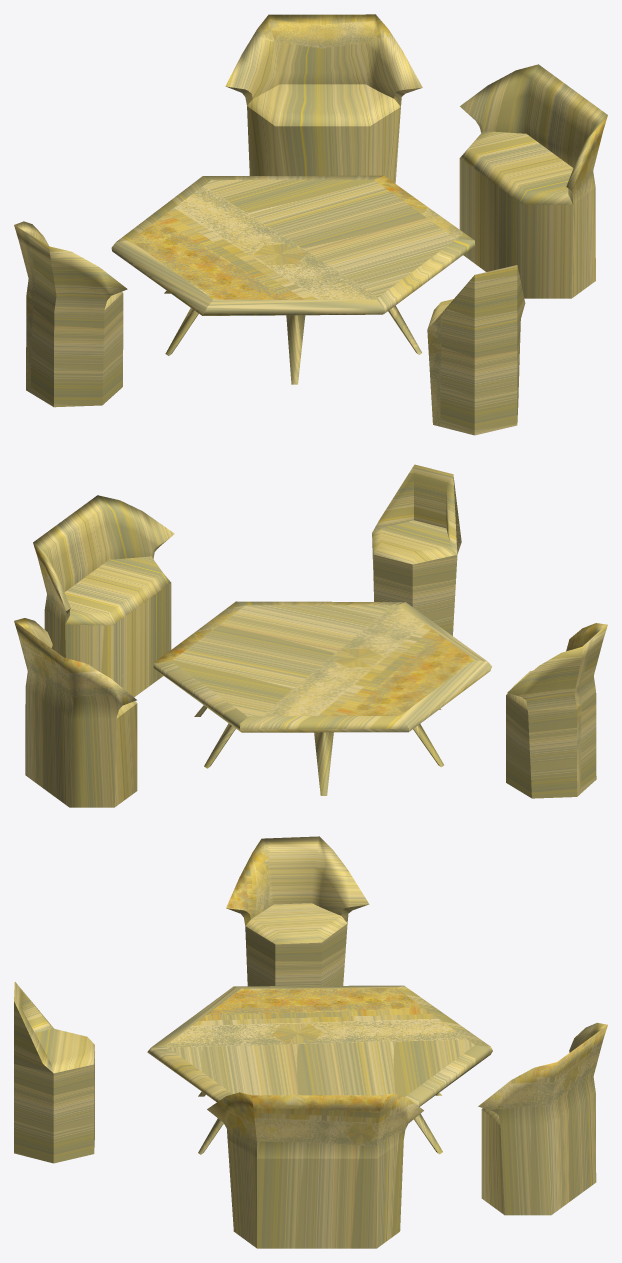
File: Lounge.fbx
The picture shows the model from 3 angles, top to bottom: view 1: azimuth 30°, elevation 25°; view 2: azimuth 150°, elevation 25°; view 3: azimuth 270°, elevation 25°; orthographic projection. The views are drawn at different scales.
Visible parts, largest first — view 1: Coffee_table, Sofa3Base, Sofa2wBase, SoftChair, HardChair; view 2: Coffee_table, Sofa3Base, Sofa2wBase, SoftChair, HardChair; view 3: Coffee_table, Sofa3Base, Sofa2wBase, SoftChair, HardChair.
Boxes of the visible parts, <box> form: Coffee_table: <box>111,175,475,384</box>; Sofa3Base: <box>459,64,607,298</box>; Sofa2wBase: <box>225,14,422,183</box>; SoftChair: <box>14,221,127,407</box>; HardChair: <box>427,265,525,435</box>; Coffee_table: <box>153,601,491,795</box>; Sofa3Base: <box>33,495,174,697</box>; Sofa2wBase: <box>14,618,137,807</box>; SoftChair: <box>506,623,607,798</box>; HardChair: <box>372,464,461,635</box>; Coffee_table: <box>147,985,492,1154</box>; Sofa3Base: <box>207,1092,423,1248</box>; Sofa2wBase: <box>478,1022,607,1215</box>; SoftChair: <box>226,836,369,986</box>; HardChair: <box>14,982,94,1163</box>.
Bounding box in the file's own units: 490 × 140 × 475.
